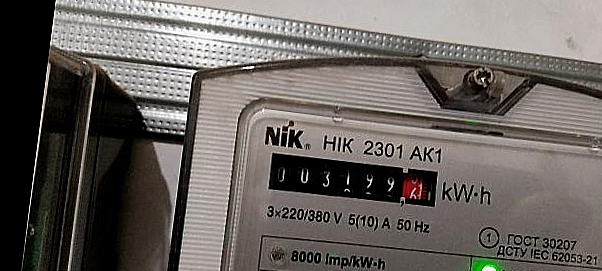0: (297, 165, 310, 185), (274, 163, 286, 182)
1: (341, 167, 353, 186)
3: (319, 167, 331, 189)
6: (406, 184, 418, 199)
9: (362, 169, 374, 190), (384, 174, 396, 193)
screen: (259, 140, 446, 217)
